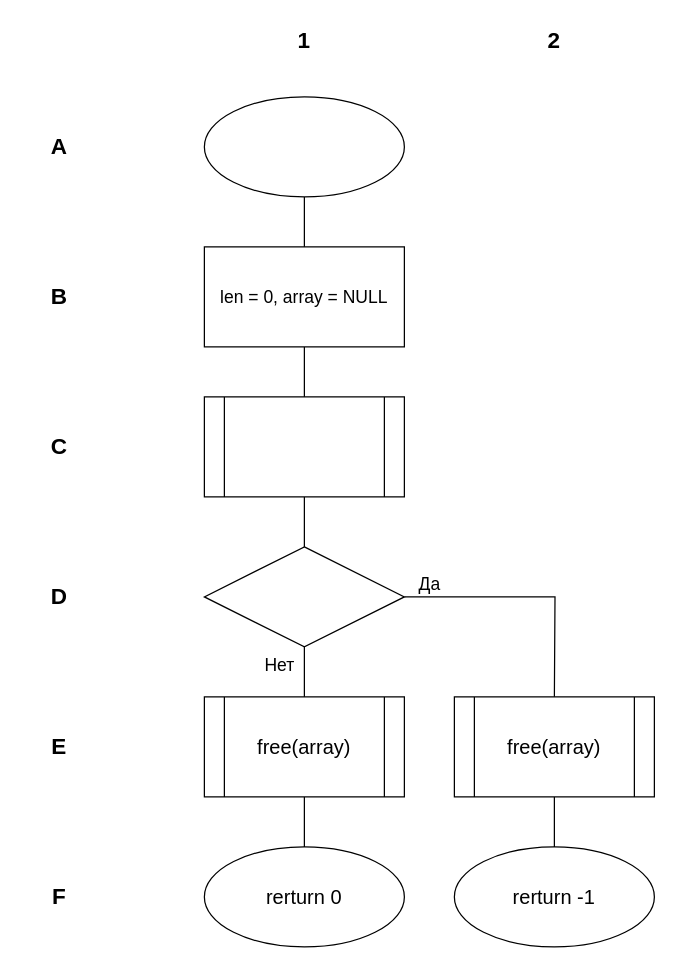
Some shapes in this 676 by 969 pixel diagram are drawn without their labels. Each missing label, with the centre of its shape:
"m == -1" belongs at point (303, 596).
"m=menu(&len,&array)" belongs at point (303, 446).
"mai n()" belongs at point (303, 146).
